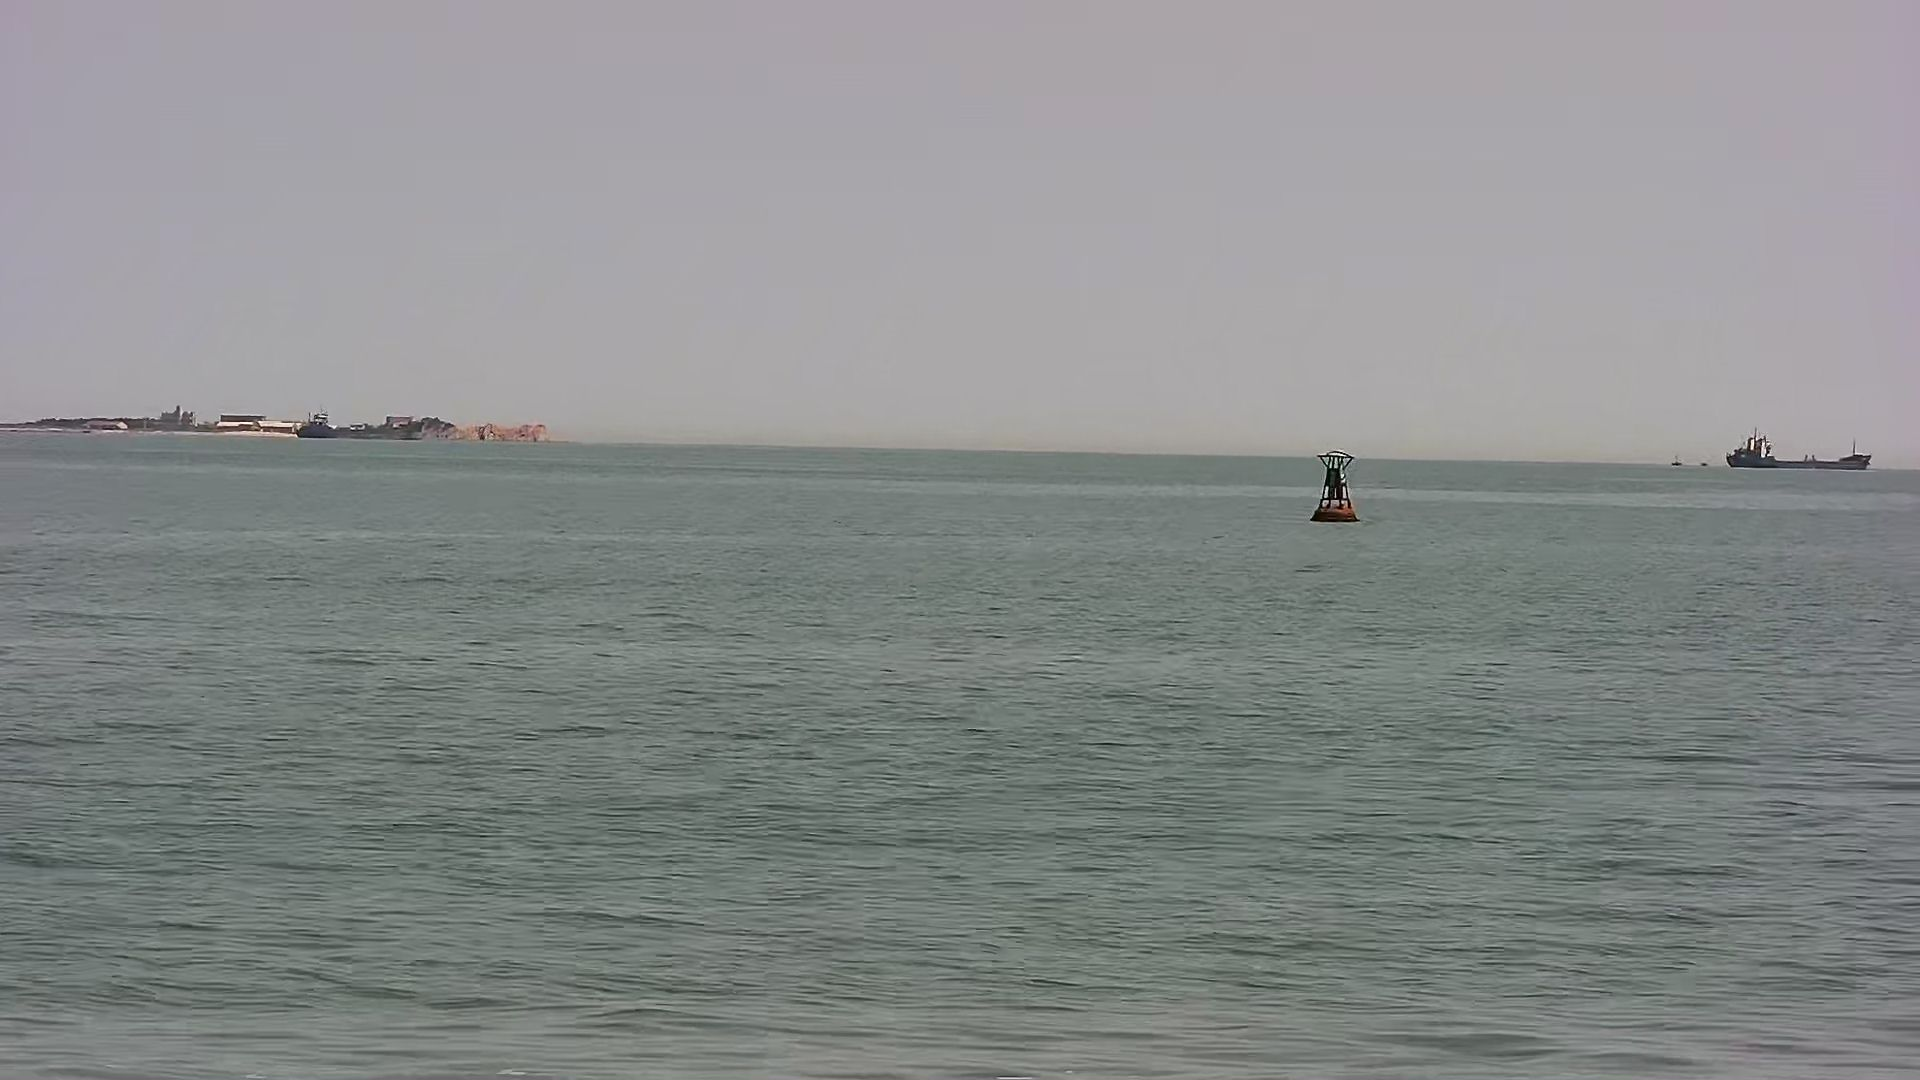platform: (1305, 448, 1371, 524)
rock: (11, 390, 559, 456)
ship: (1717, 434, 1875, 484)
